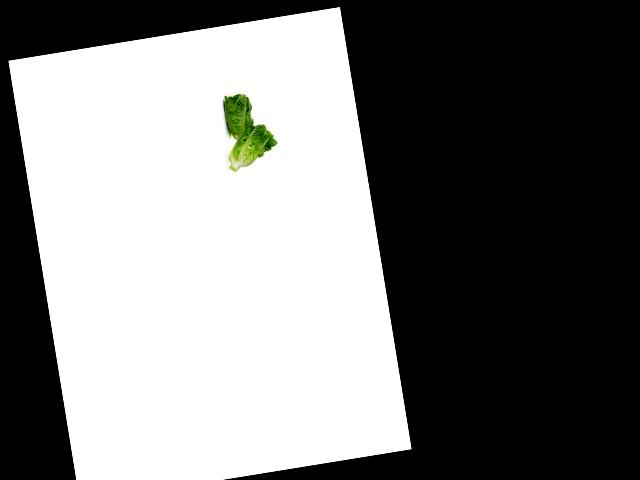lettuce: (218, 117, 278, 174)
